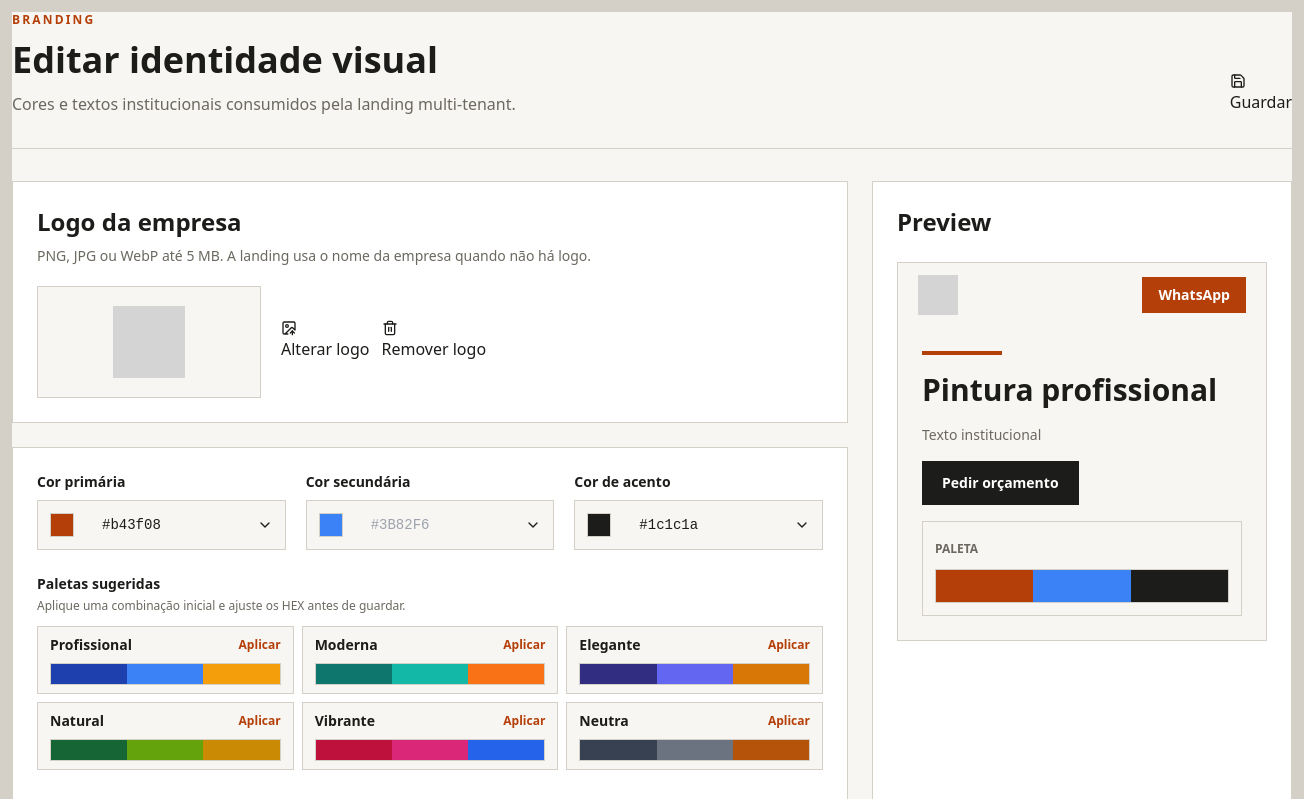
Test: BrandingPage logo management › deletes the current logo and returns the preview to the fallback
What coordinates should you click on to do the following:
click the button "Remover logo"
I would click on:
 (434, 342)
Its box is [382,320,486,364].
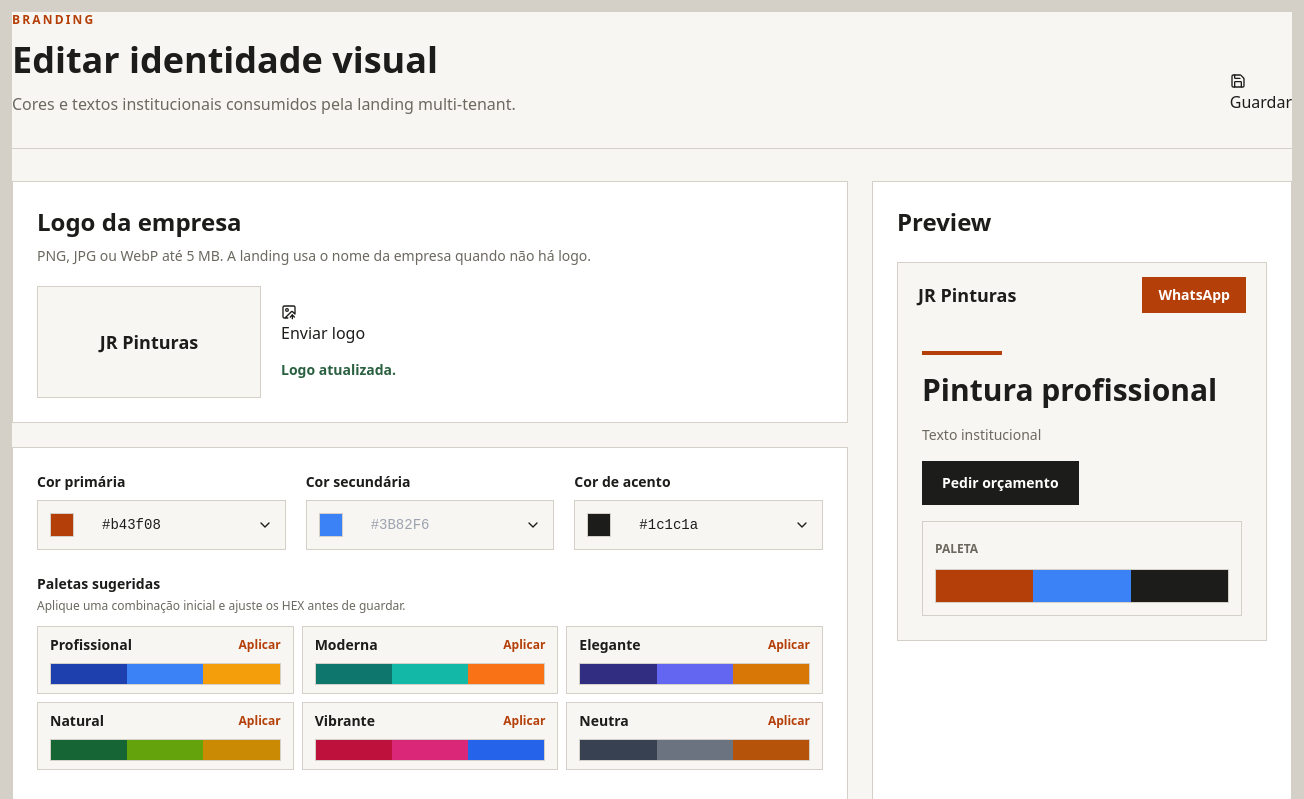
Check: the text "JR Pinturas" below "Logo da empresa" is shown, box [100,330,198,354]
